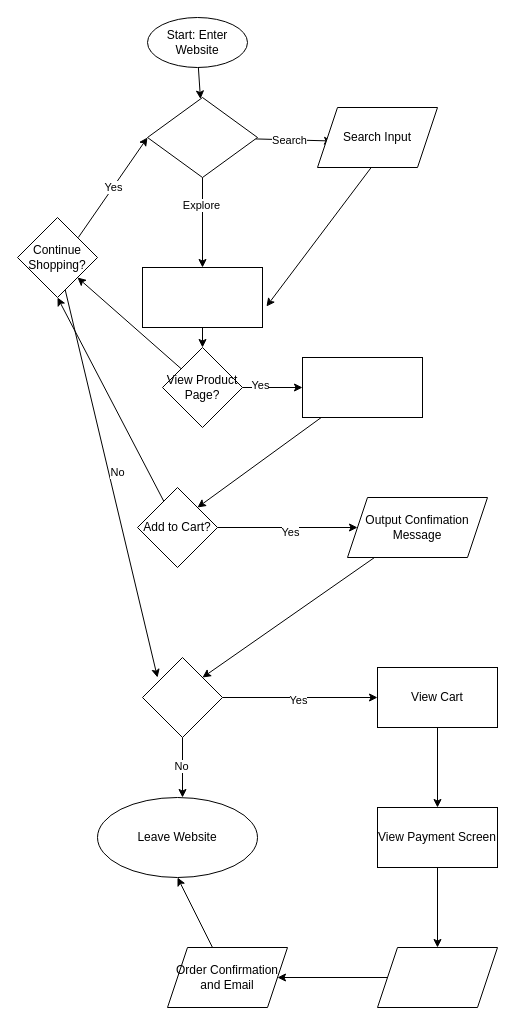
Some shapes in this 515 by 1025 pixel diagram are drawn without their labels. The shapes that lost their labels are listed below. From the top down, each one's box as (x1, y1, x2, y2) in pixels, then its label:
(146, 96, 258, 178): Search/Explore Home Page
(142, 266, 262, 328): View Product List
(302, 356, 422, 418): Open Product Page
(142, 656, 222, 738): Checkout?
(376, 946, 498, 1008): Input Payment Information
